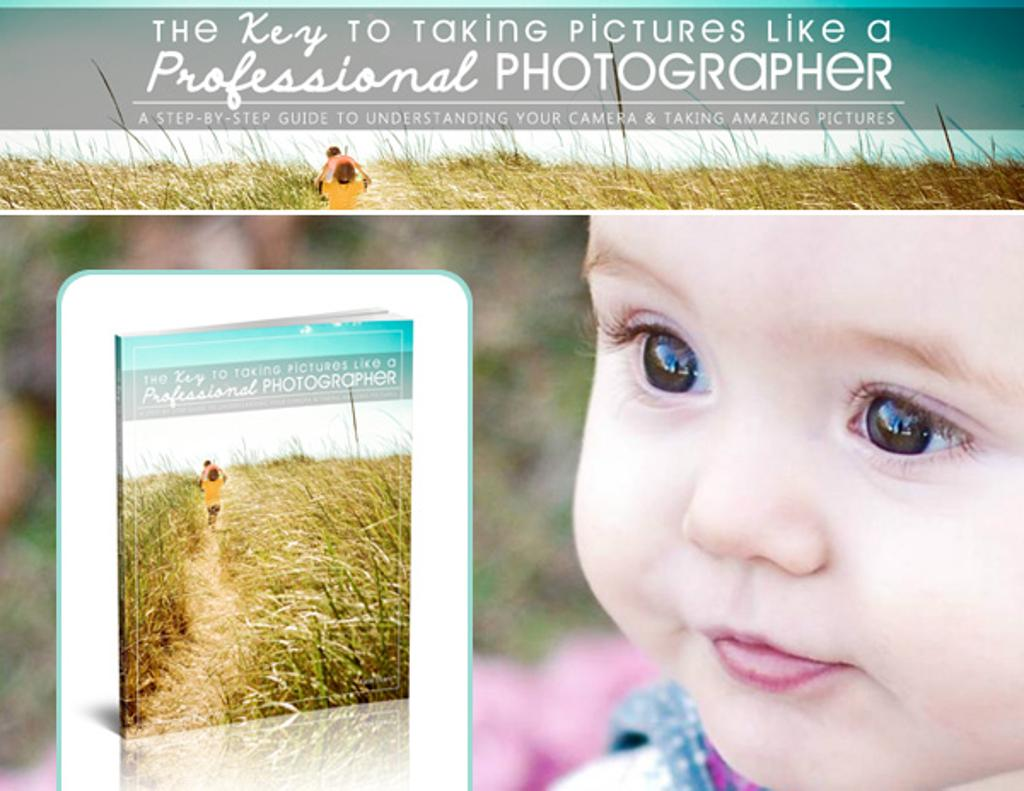face: (572, 206, 1020, 790)
